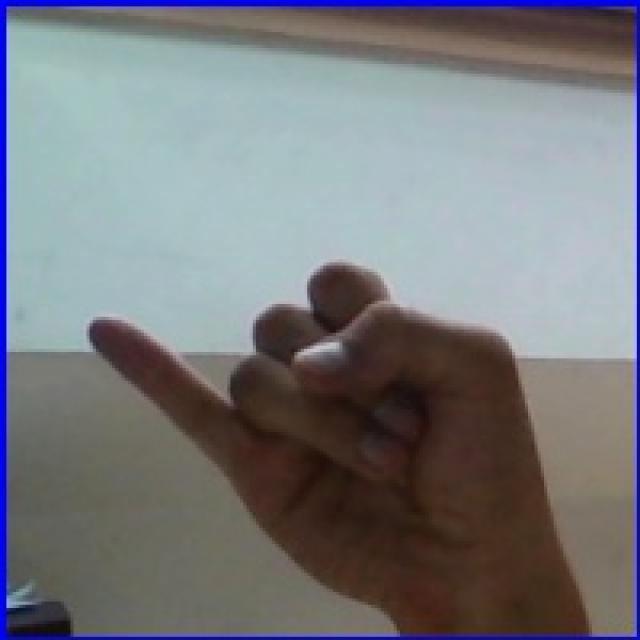J: (59, 151, 640, 640)
